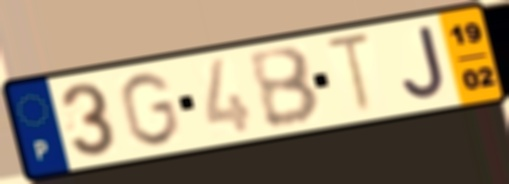3: (58, 81, 118, 160)
4: (202, 55, 255, 136)
B: (244, 44, 324, 131)
G: (116, 70, 183, 149)
J: (400, 23, 448, 103)
T: (321, 30, 375, 118)
